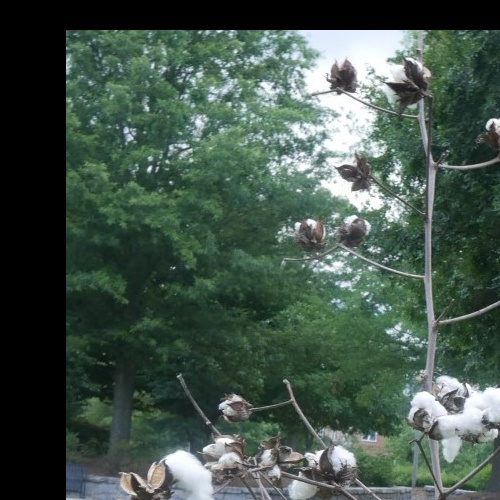mature_boll: (178, 397, 358, 500), (403, 353, 500, 482)
